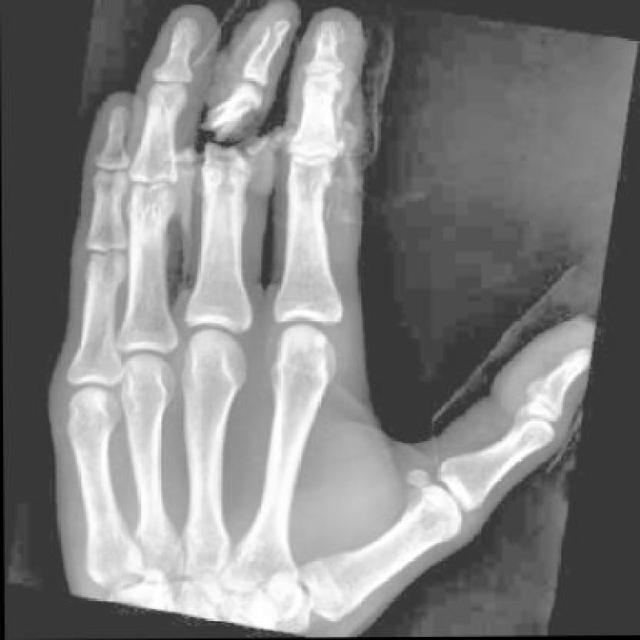Fracture: (203, 79, 270, 169), (253, 12, 298, 74)
